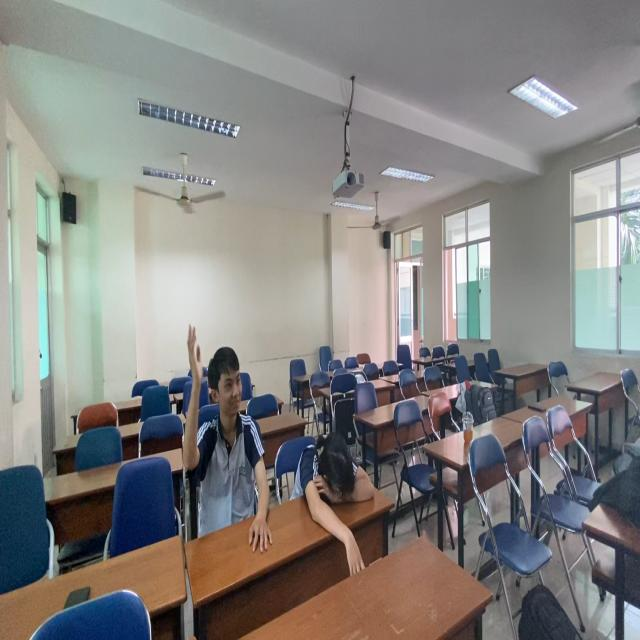raise_hand: (178, 318, 271, 537)
sleep: (290, 435, 381, 528)
